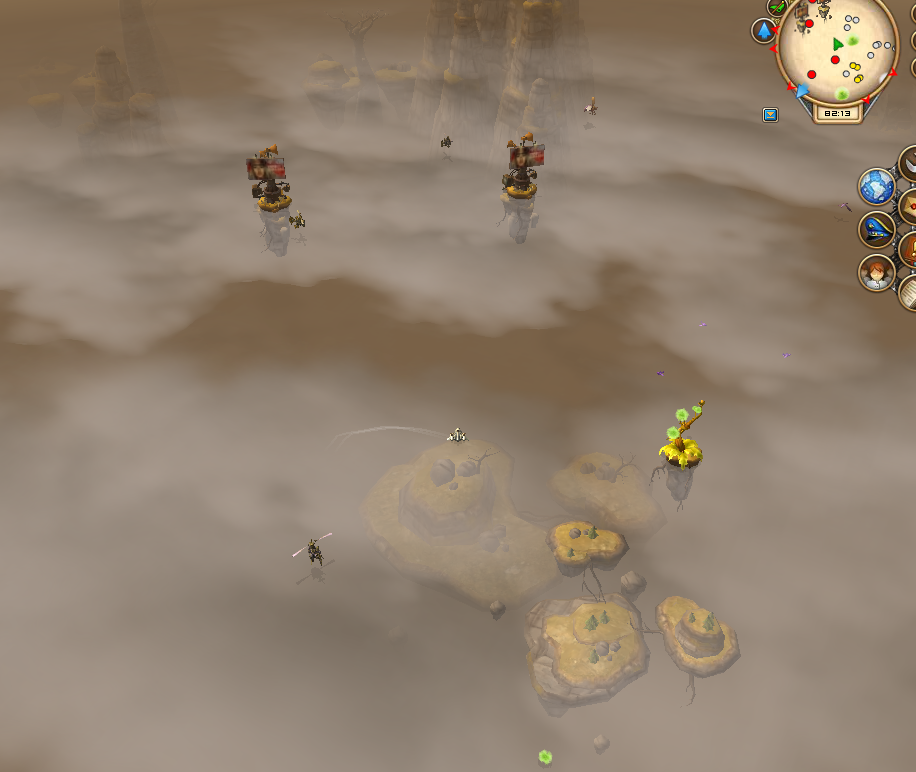dandelion-full: (654, 395, 711, 505)
fluff: (530, 745, 559, 769)
